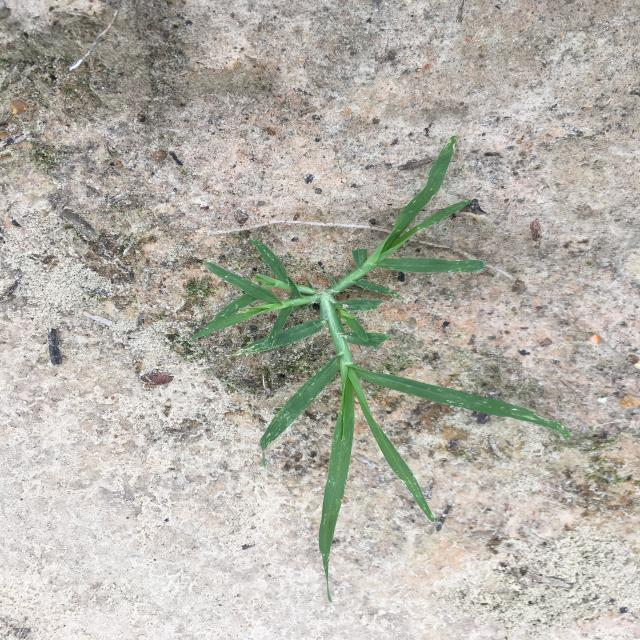Goosegrass: (189, 135, 571, 603)
